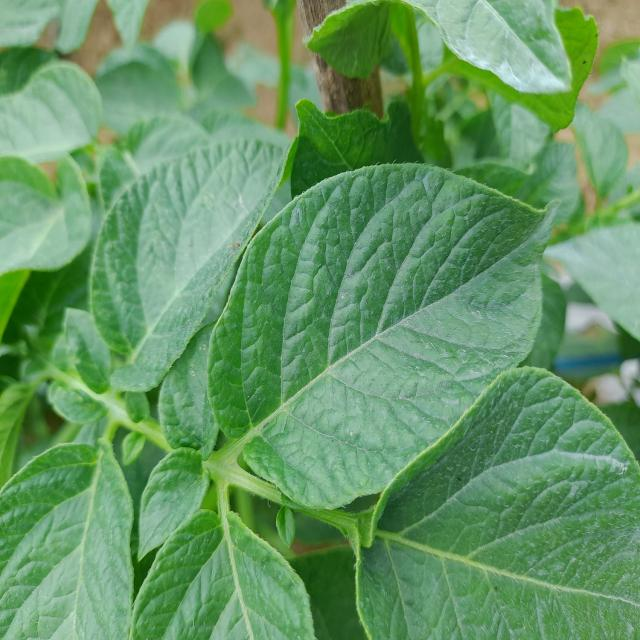healthy: (204, 159, 561, 514)
